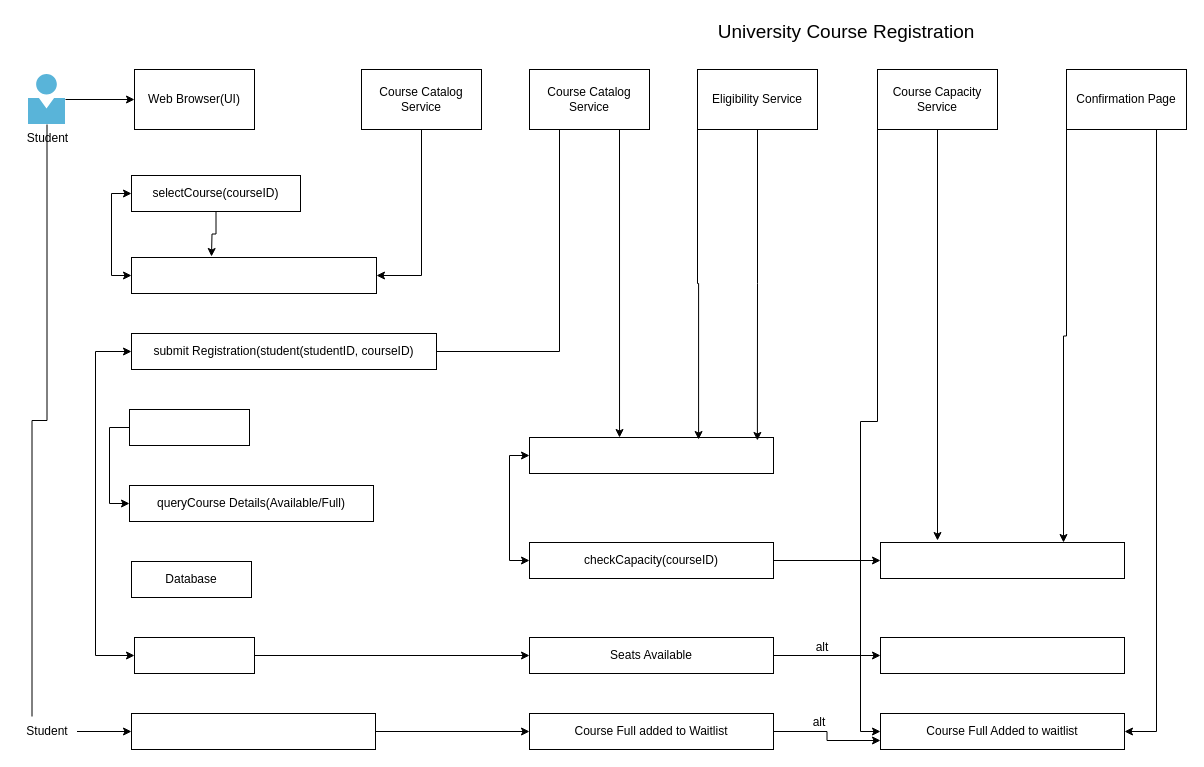
Some shapes in this 1204 by 767 pixel diagram are drawn without their labels. The centre of each missing label's shape, as x and y in pixels:
"Course Full Waitlist Confirmation" goes at (1002,655).
"Eligibility Status(OK/Not Eligible)" goes at (651,455).
"Eligible" goes at (189,427).
"Enrollment to waitlist Registration(details)" goes at (1002,560).
"if Eligible" goes at (194,655).
"Not Eligible for Course" goes at (253,731).
"submit Registration(studentID, courseID)" goes at (253,275).
